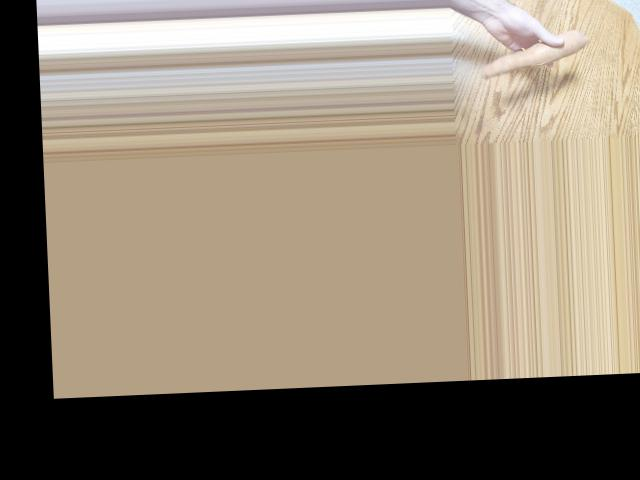sweet_potato: (473, 35, 587, 70)
